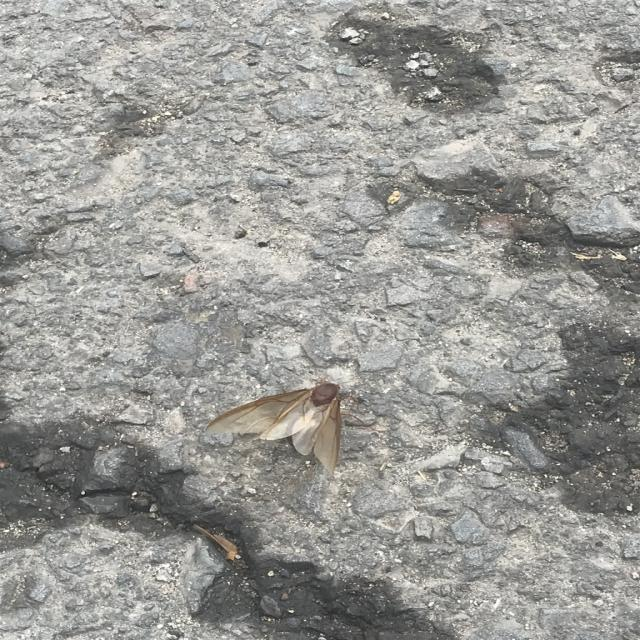Alive-Male-Alate: (206, 374, 387, 481)
